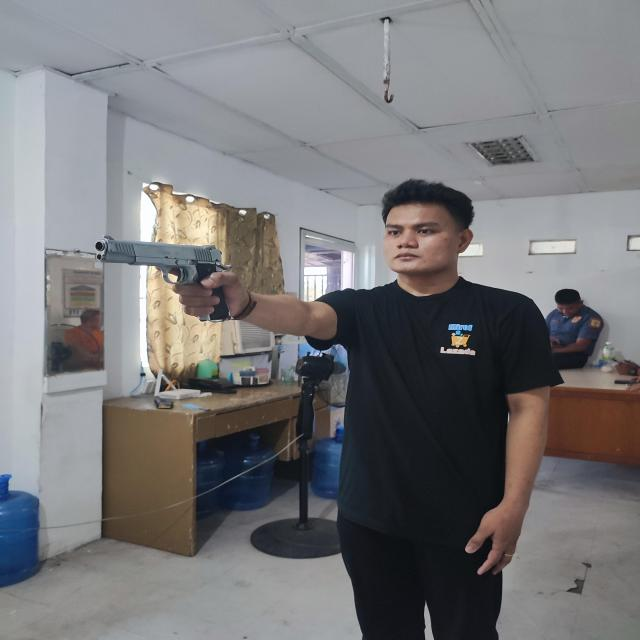pistol: (94, 235, 232, 322)
